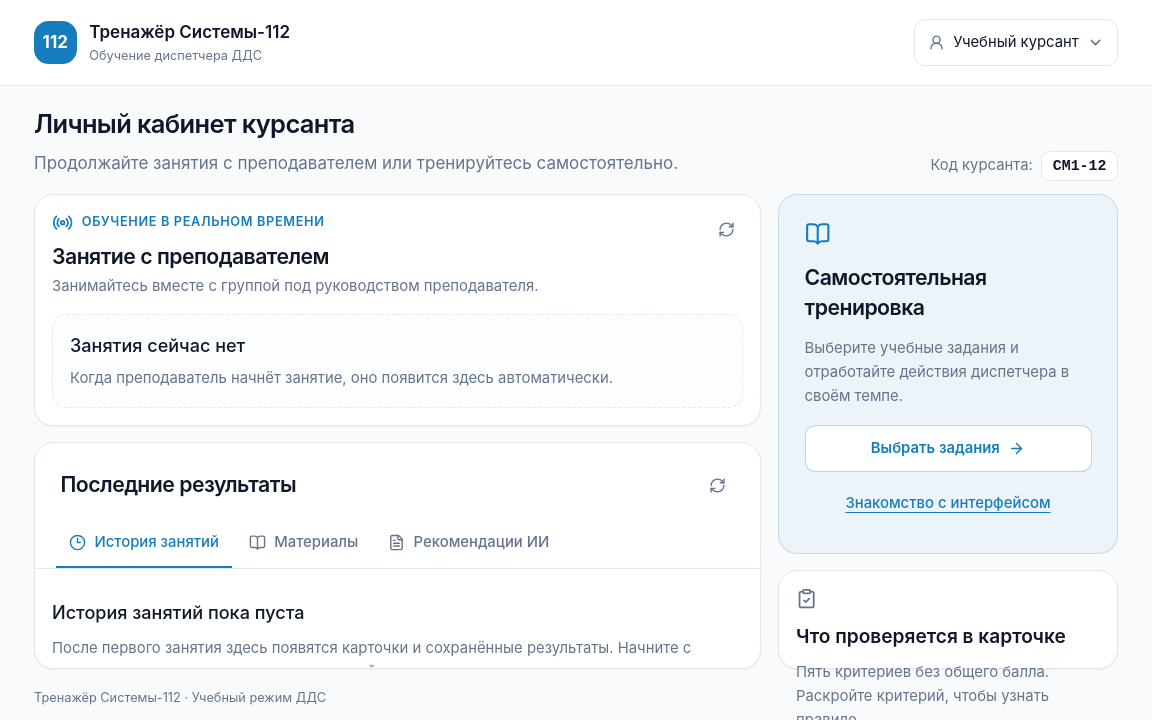
Test case: reads saved advice lazily and does not start legacy AI generation
The image size is (1152, 720).
Click the button "Рекомендации ИИ" at (469, 544), box [375,519,562,568]
(page scrolled)
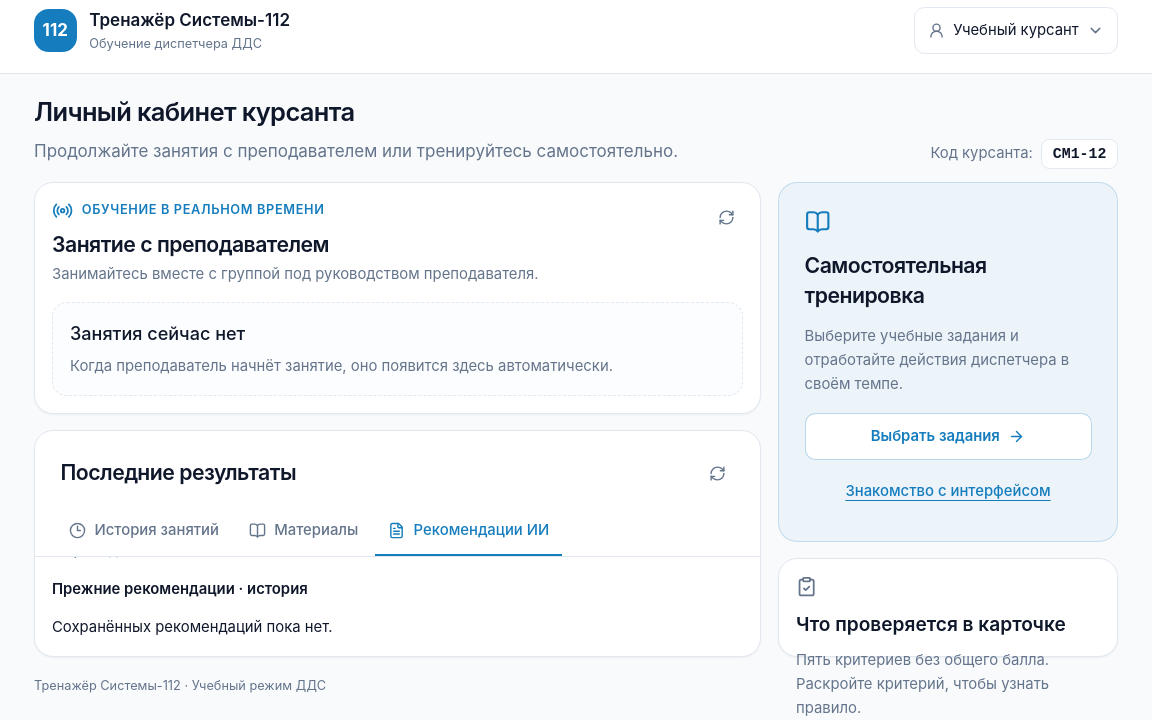
Check: the text "Сохранённых рекомендаций пока нет." is shown, box [52,618,332,636]
